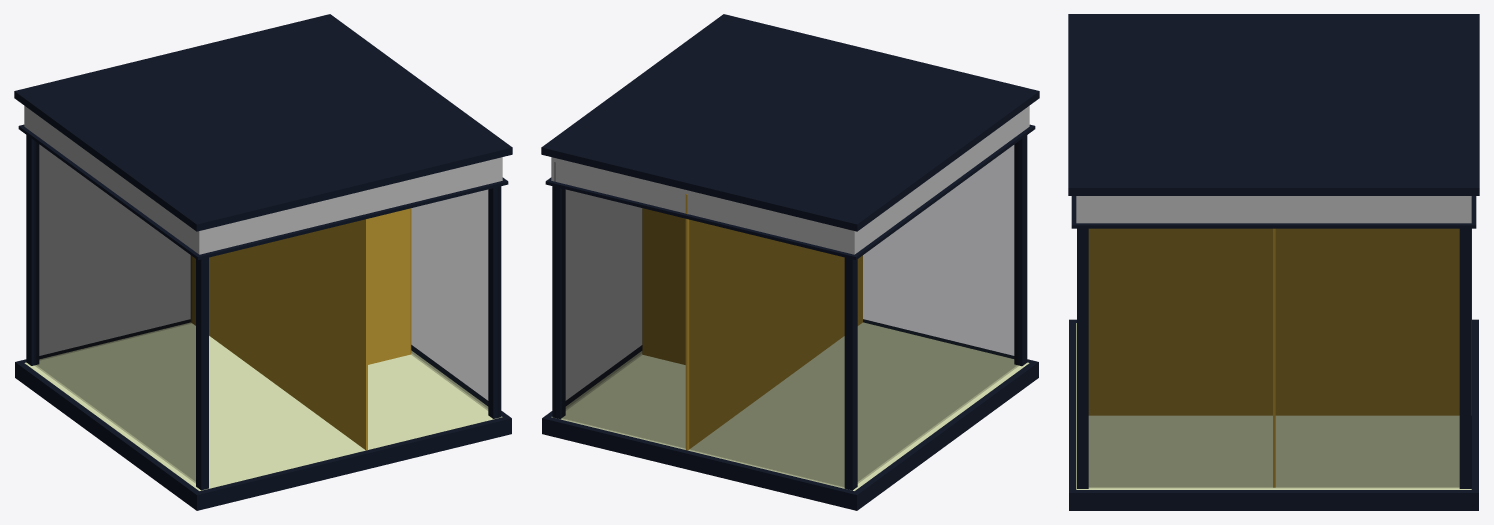
3 renders of one model, left to right at view 1: azimuth 30°, elevation 25°; view 2: azimuth 150°, elevation 25°; view 3: azimuth 270°, elevation 25°, orthographic. The views are drawn at different scales.
Parts seen in each view (by area): view 1: Top, Bottom, Glass_3, Wall_2, Glass_2, Glass, column, Wall; view 2: Top, Glass_2, Bottom, Glass_3, Wall_2, Glass, column, Wall; view 3: Glass, Top, Wall_2, Bottom, column, Wall.
Part boxes in pixels (<box>): Top: <box>14,14,512,259</box>; Bottom: <box>15,319,511,510</box>; Glass_3: <box>34,141,195,482</box>; Wall_2: <box>191,219,367,450</box>; Glass_2: <box>39,145,191,359</box>; Glass: <box>411,187,499,417</box>; column: <box>26,135,501,490</box>; Wall: <box>368,208,411,364</box>; Top: <box>541,14,1039,259</box>; Glass_2: <box>561,188,844,487</box>; Bottom: <box>542,319,1038,510</box>; Glass_3: <box>858,142,1018,482</box>; Wall_2: <box>685,194,862,450</box>; Glass: <box>554,162,642,417</box>; column: <box>552,135,1027,490</box>; Wall: <box>642,208,685,364</box>; Glass: <box>1089,229,1459,487</box>; Top: <box>1068,14,1479,228</box>; Wall_2: <box>1088,228,1471,415</box>; Bottom: <box>1069,319,1478,510</box>; column: <box>1077,228,1471,488</box>; Wall: <box>1273,228,1275,487</box>.
Size of the model in its own units: 312 by 271 by 312.
